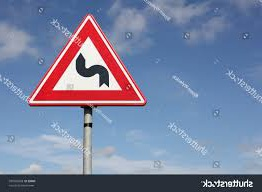Double_bend_left: (27, 13, 148, 107)
